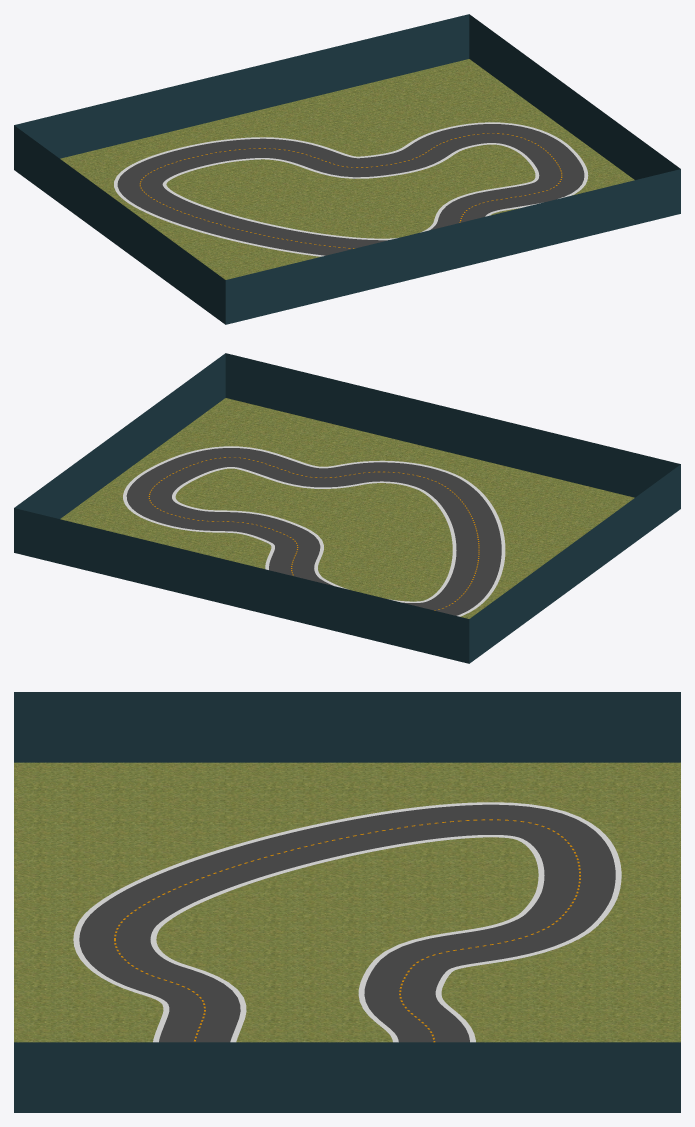
The model's file is 33_reInvent2019_track.dae.
3 views of the same model, one above another, from view 1: azimuth 30°, elevation 25°; view 2: azimuth 150°, elevation 25°; view 3: azimuth 270°, elevation 25° (orthographic). The views are drawn at different scales.
Visible parts, largest first — view 1: wall, field, cl; view 2: wall, field, cl; view 3: field, wall, cl.
Part boxes in pixels (box(x1,y1,x2,y2)): wall: box(14, 14, 680, 324); field: box(60, 59, 634, 279); cl: box(114, 122, 588, 256); wall: box(14, 353, 680, 663); field: box(60, 398, 634, 618); cl: box(123, 446, 505, 616); field: box(14, 762, 680, 1042); wall: box(14, 692, 680, 1112); cl: box(73, 802, 621, 1042).
Bounding box in the file's own units: 10.64 × 8.56 × 1.
5 materials, 5 textured.
